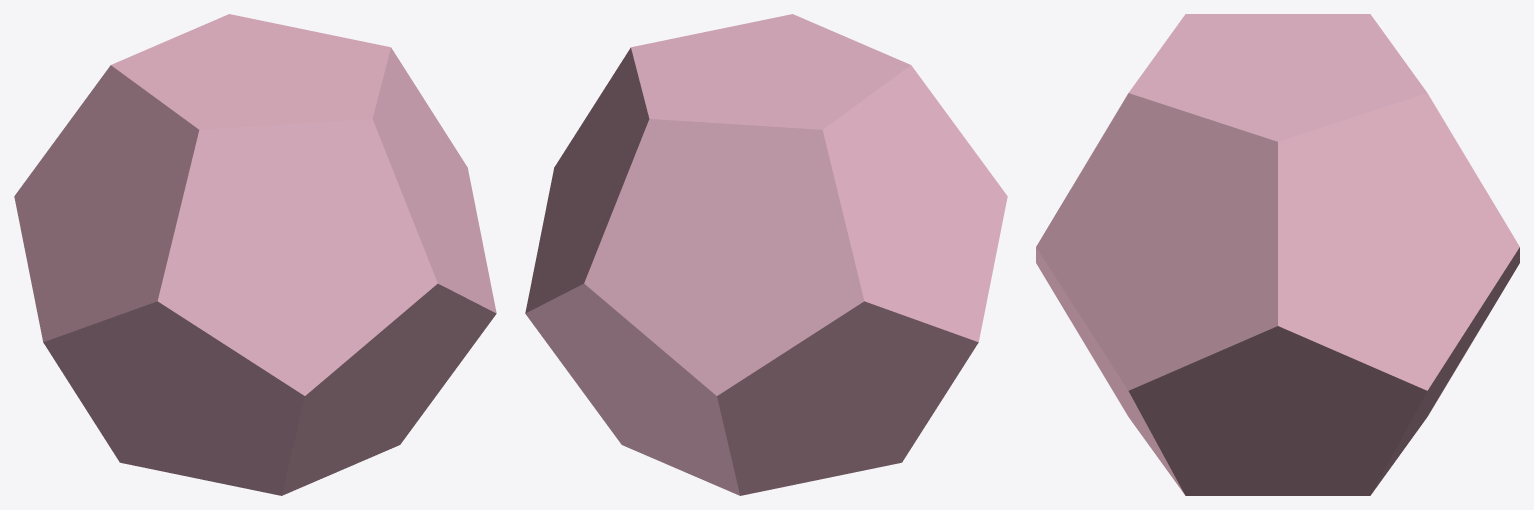
File: dodecaedr.dae
3 renders of one model, left to right at view 1: azimuth 30°, elevation 25°; view 2: azimuth 150°, elevation 25°; view 3: azimuth 270°, elevation 25°, orthographic. The views are drawn at different scales.
Parts seen in each view (by area): view 1: Solid; view 2: Solid; view 3: Solid.
Boxes of the visible parts, left/top/right/bottom form: Solid: left=14, top=14, right=496, bottom=495; Solid: left=525, top=14, right=1007, bottom=495; Solid: left=1036, top=14, right=1519, bottom=495.
Size of the model in its own units: 1 by 0.95 by 0.8227.
